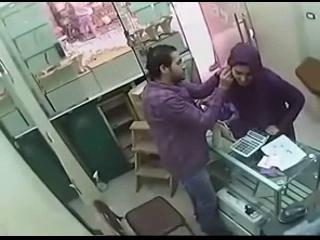Normal: (142, 45, 234, 234), (220, 42, 306, 142), (93, 196, 195, 236), (230, 129, 270, 158)
